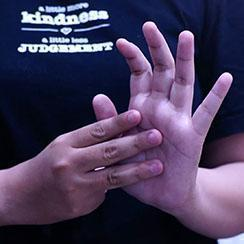M: (52, 5, 240, 244)
